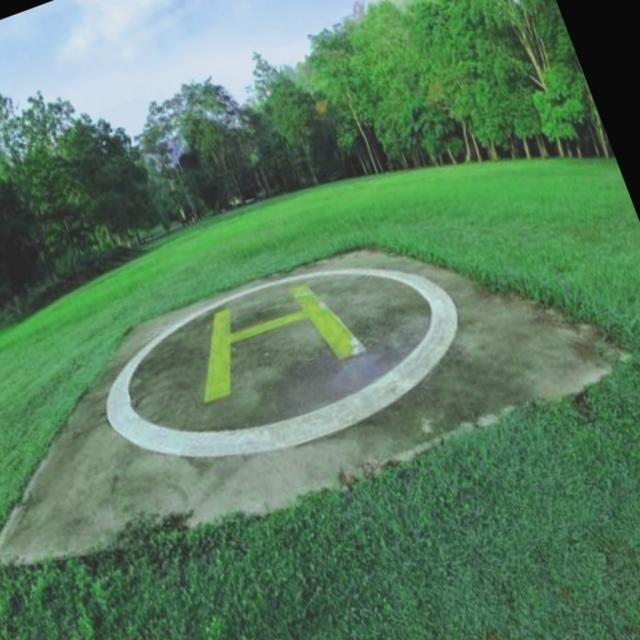helipad: (100, 260, 460, 461)
